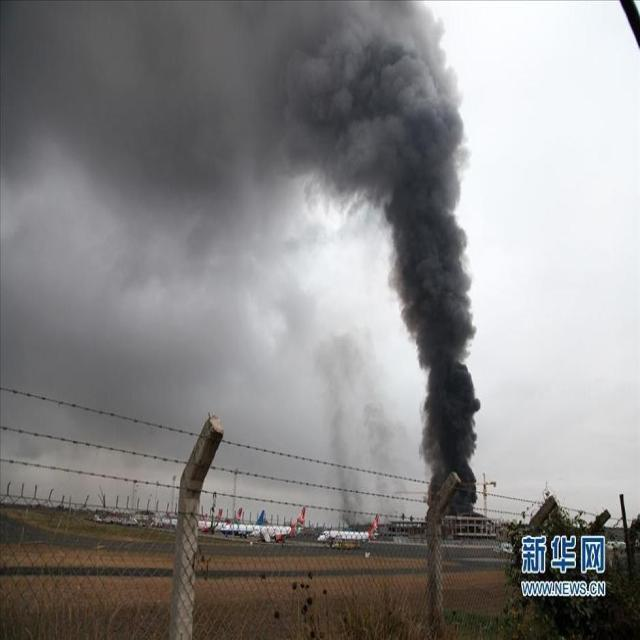Smoke: (1, 1, 482, 522)
